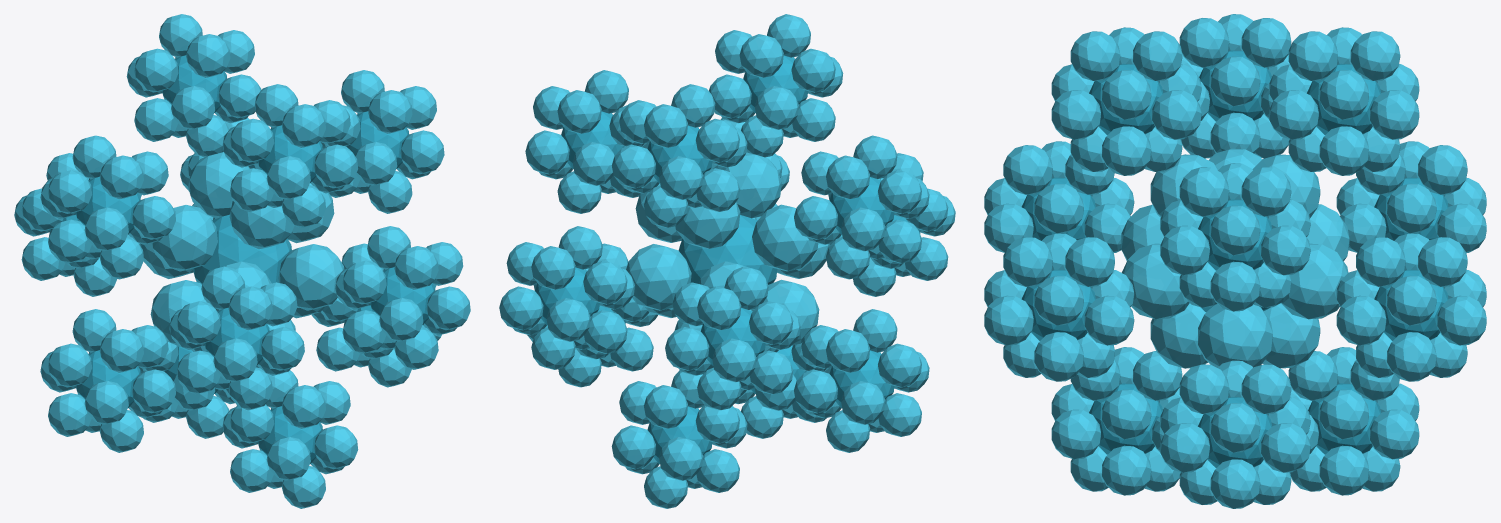
File: fractalsnubdodecahedron2.glb
3 renders of one model, left to right at view 1: azimuth 30°, elevation 25°; view 2: azimuth 150°, elevation 25°; view 3: azimuth 270°, elevation 25°, orthographic. The views are drawn at different scales.
Bounding box in the file's own units: 8.97 × 8.97 × 8.97.
